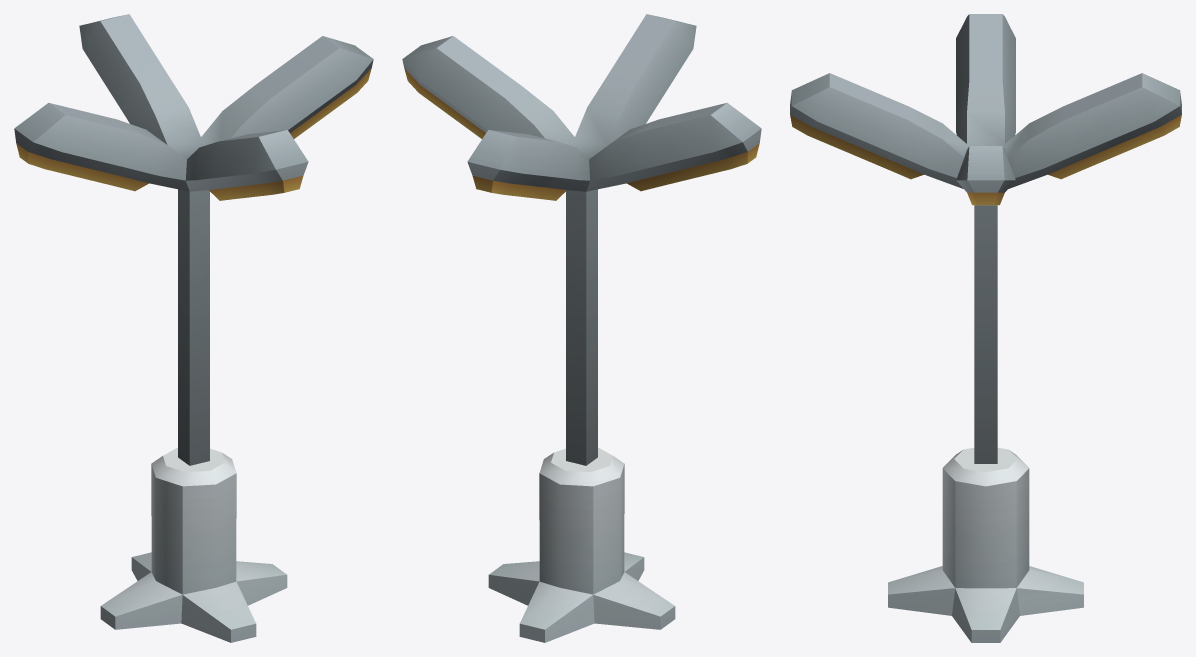
Rendered from lights.glb.
3 renders of one model, left to right at view 1: azimuth 30°, elevation 25°; view 2: azimuth 150°, elevation 25°; view 3: azimuth 270°, elevation 25°, orthographic.
Visible parts, largest first — view 1: lights; view 2: lights; view 3: lights.
Part boxes in pixels (x1,y1,x2,y2): lights: [14, 14, 373, 642]; lights: [402, 14, 761, 642]; lights: [790, 14, 1181, 642].
Size of the model in its own units: 0.68 by 0.9984 by 0.68.
Materials: 1 (1 with a texture image).
